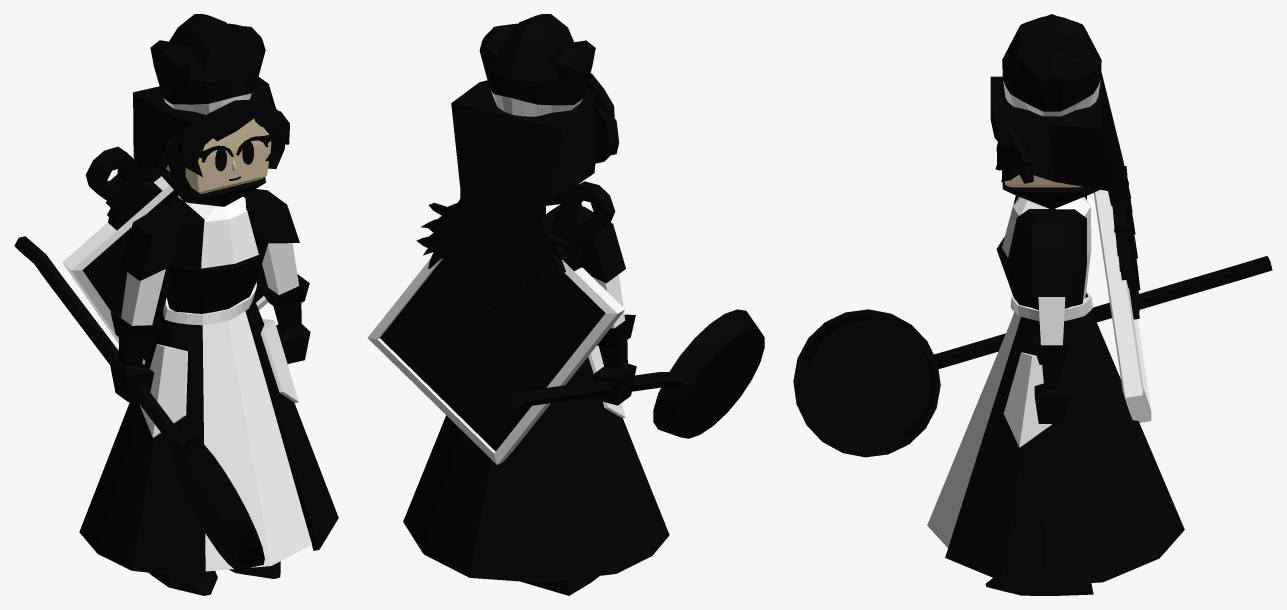
File: CookCleric.fbx
The picture shows the model from 3 angles, left to right: view 1: azimuth 30°, elevation 25°; view 2: azimuth 150°, elevation 25°; view 3: azimuth 270°, elevation 25°; orthographic projection.
Parts seen in each view (by area): view 1: Plane.023; view 2: Plane.023; view 3: Plane.023.
Boxes of the visible parts, <box> form: Plane.023: <box>14,14,338,595</box>; Plane.023: <box>367,14,764,595</box>; Plane.023: <box>793,14,1272,595</box>.
Bounding box in the file's own units: 236 × 408 × 520.
